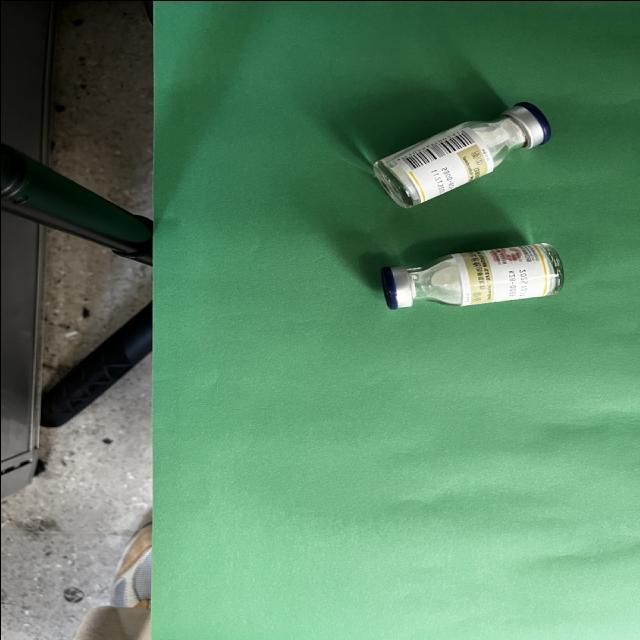Vials: (372, 100, 551, 208), (380, 242, 563, 308)
